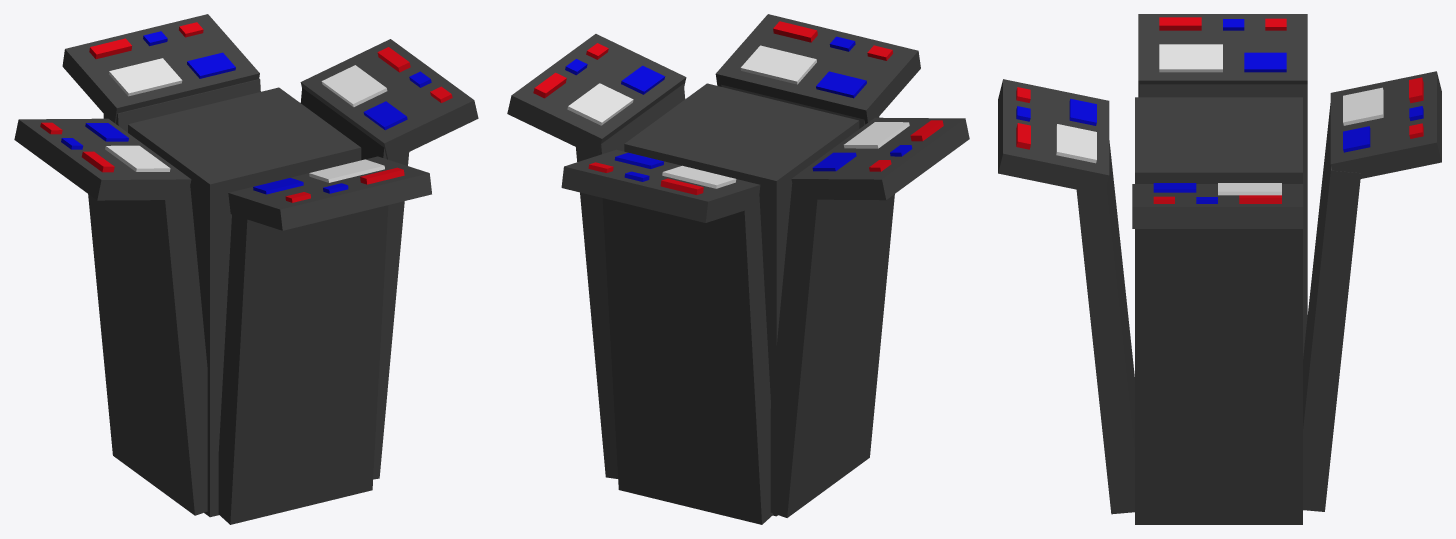
Rendered from promontoir.fbx.
3 renders of one model, left to right at view 1: azimuth 30°, elevation 25°; view 2: azimuth 150°, elevation 25°; view 3: azimuth 270°, elevation 25°, orthographic. The views are drawn at different scales.
Parts seen in each view (by area): view 1: Cube.003, Cube.004, Cube, Cube.005, Cube.007, Cube.006, Cube.008, Cube.001, Cube.002; view 2: Cube.002, Cube.004, Cube, Cube.008, Cube.007, Cube.006, Cube.005, Cube.001; view 3: Cube.001, Cube, Cube.002, Cube.006, Cube.003, Cube.008, Cube.005, Cube.007, Cube.004.
Boxes of the visible parts, x1,y1,x2,y2 form: Cube.003: (218, 205, 388, 524); Cube.004: (88, 186, 207, 515); Cube: (128, 87, 361, 517); Cube.005: (62, 14, 259, 123); Cube.007: (300, 39, 478, 160); Cube.006: (14, 118, 191, 200); Cube.008: (228, 156, 431, 230); Cube.001: (300, 88, 409, 479); Cube.002: (103, 79, 260, 132); Cube.002: (602, 196, 772, 524); Cube.004: (770, 184, 894, 517); Cube: (624, 83, 859, 516); Cube.008: (715, 14, 920, 124); Cube.007: (507, 34, 686, 156); Cube.006: (791, 117, 969, 200); Cube.005: (561, 149, 760, 222); Cube.001: (576, 84, 685, 478); Cube.001: (1135, 229, 1302, 524); Cube: (1135, 97, 1302, 183); Cube.002: (1303, 103, 1360, 511); Cube.006: (1138, 14, 1307, 97); Cube.003: (1076, 140, 1134, 514); Cube.008: (998, 79, 1109, 195); Cube.005: (1330, 71, 1441, 178); Cube.007: (1132, 183, 1303, 228); Cube.004: (1139, 84, 1307, 358).
Bounding box in the file's own units: 200 × 185 × 199.
